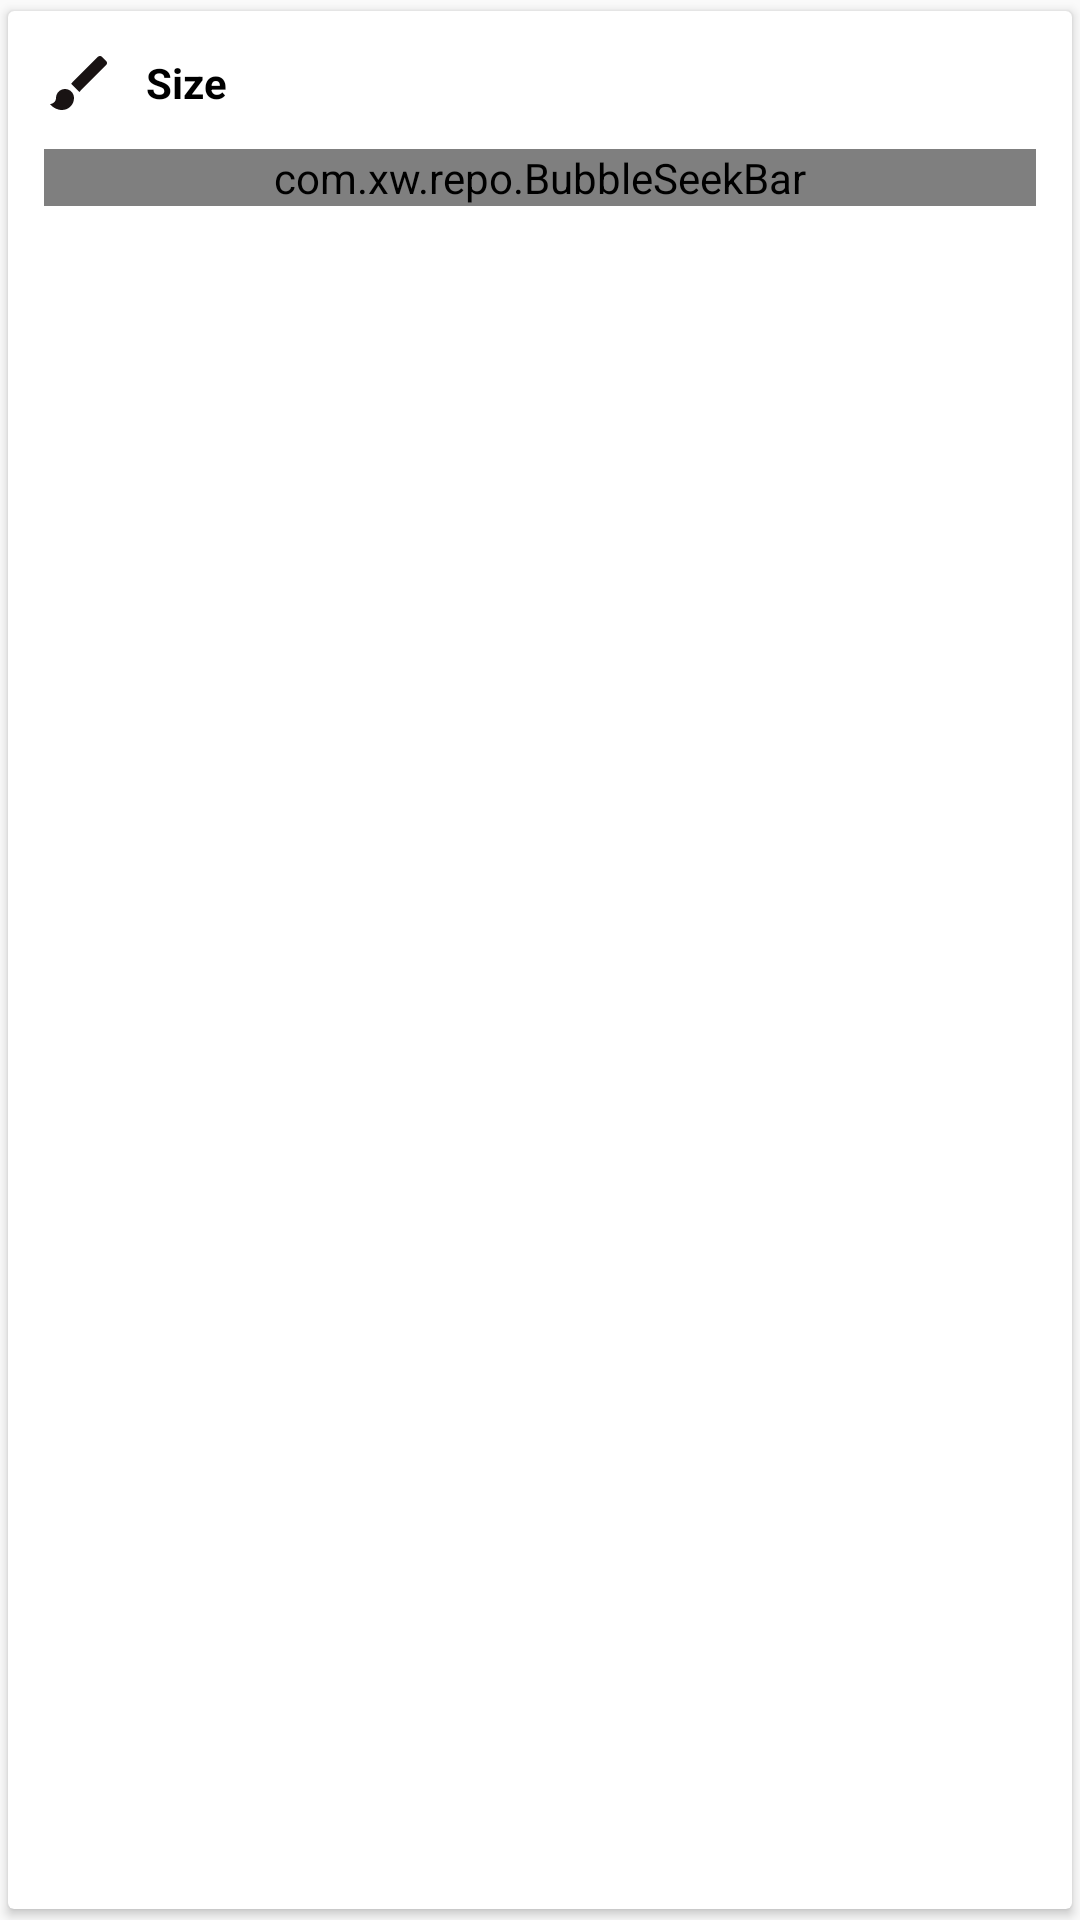

Screen size 1080×1920. Icon name, then its center in pixels as (x,y):
brush: (78,83)
